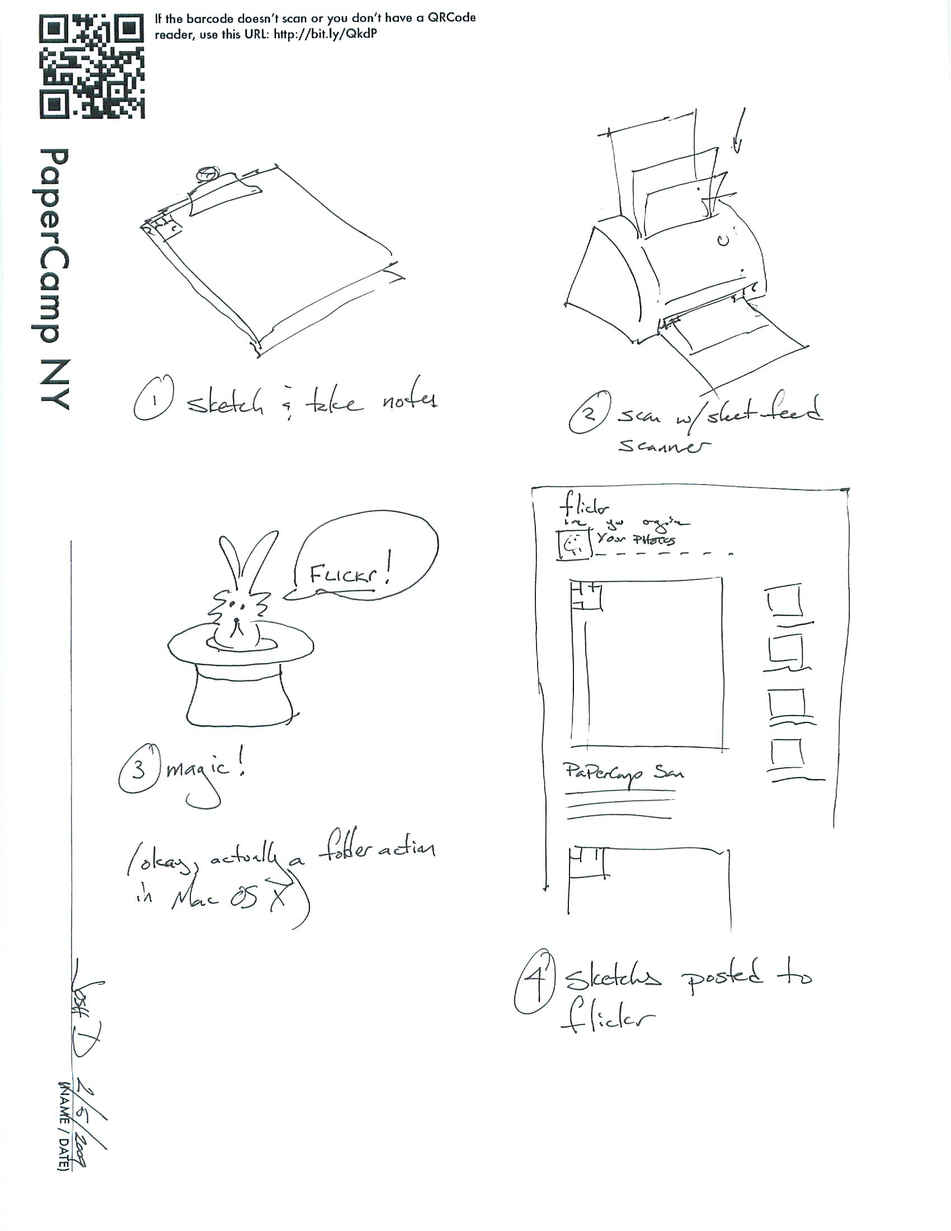QR-CODE: (39, 14, 145, 119)
